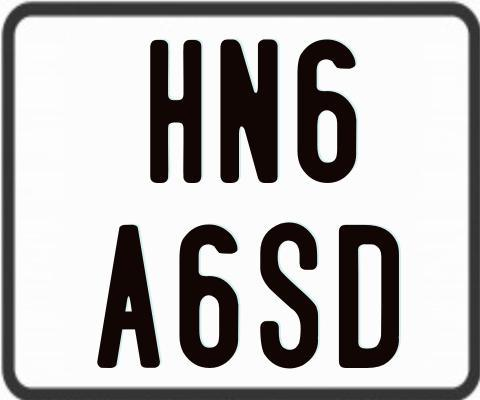6: (178, 222, 243, 371), (294, 37, 353, 183)
A: (97, 224, 165, 368)
D: (336, 222, 397, 367)
H: (148, 37, 202, 184)
N: (219, 36, 281, 183)
S: (257, 222, 315, 371)
